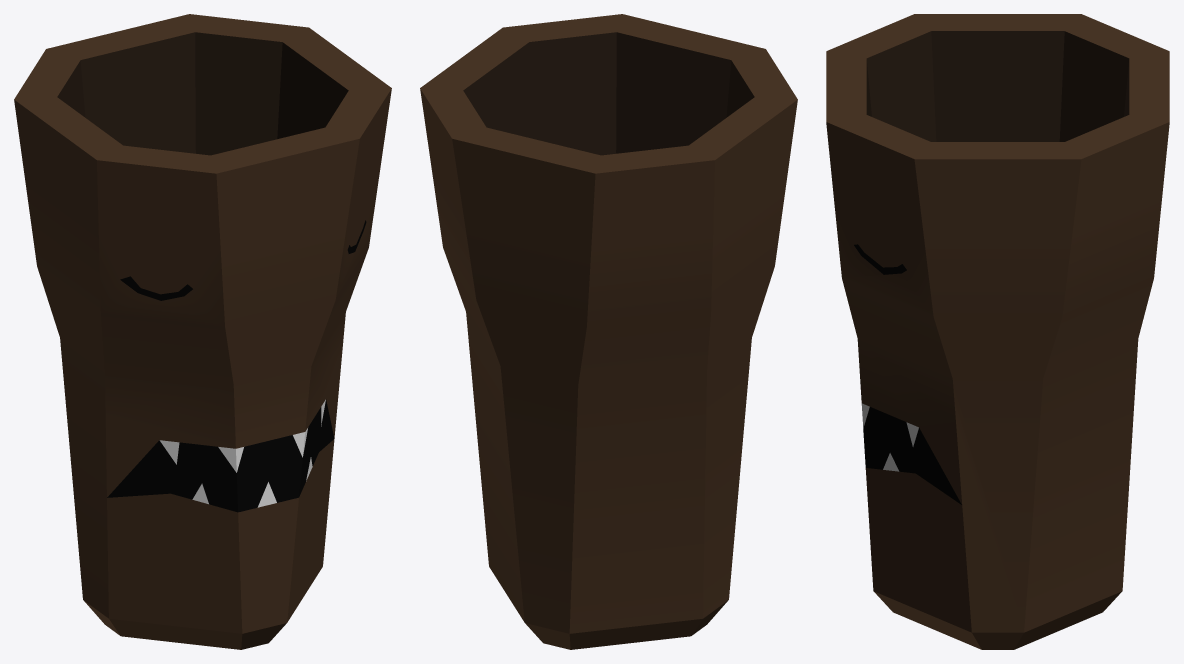
The model's file is CubileteBansheeEnemigo.fbx.
3 renders of one model, left to right at view 1: azimuth 30°, elevation 25°; view 2: azimuth 150°, elevation 25°; view 3: azimuth 270°, elevation 25°, orthographic.
Parts seen in each view (by area): view 1: cubileteHEnemigo.001; view 2: cubileteHEnemigo.001; view 3: cubileteHEnemigo.001.
Boxes of the visible parts, bbox=[...] form: cubileteHEnemigo.001: bbox=[14, 14, 391, 649]; cubileteHEnemigo.001: bbox=[420, 14, 797, 649]; cubileteHEnemigo.001: bbox=[826, 14, 1169, 649].
Bounding box in the file's own units: 42 × 70 × 42.
